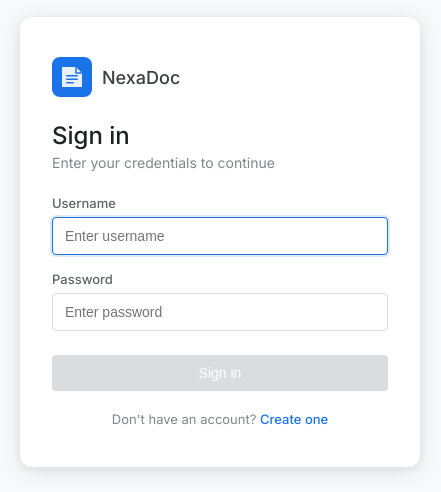
Scenario: LoginPage › shows loading text on submit
This screenshot has width=441, height=492.
Type "alice" into the field with placeholder "Enter username" at [220, 236], box [52,217,388,255]
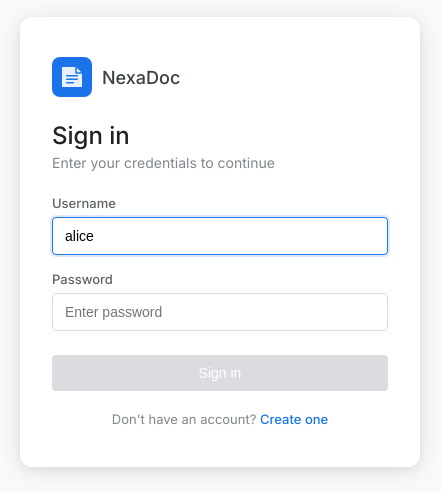
Type "pass123" into the password field with placeholder "Enter password" at [220, 312], box [52,293,388,331]
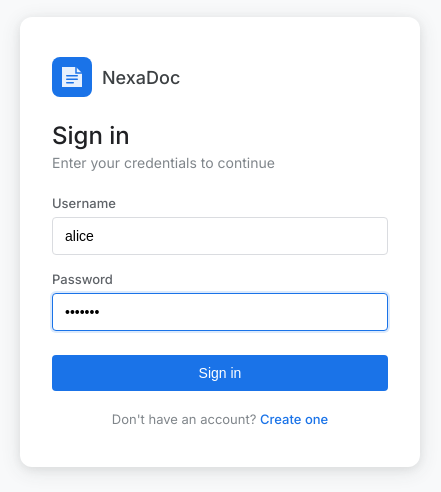
Click the button "Sign in" at [220, 373], box [52,355,388,391]
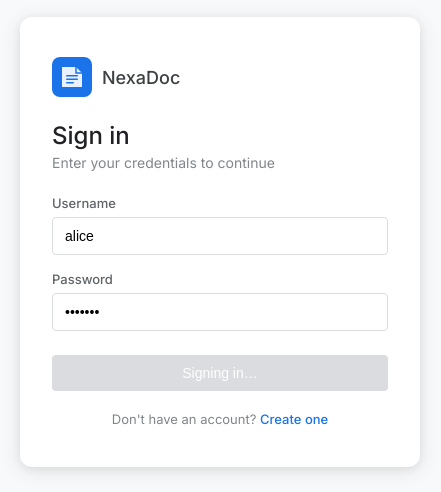
Result: the button "Signing in…" is shown at [52,355,388,391]
